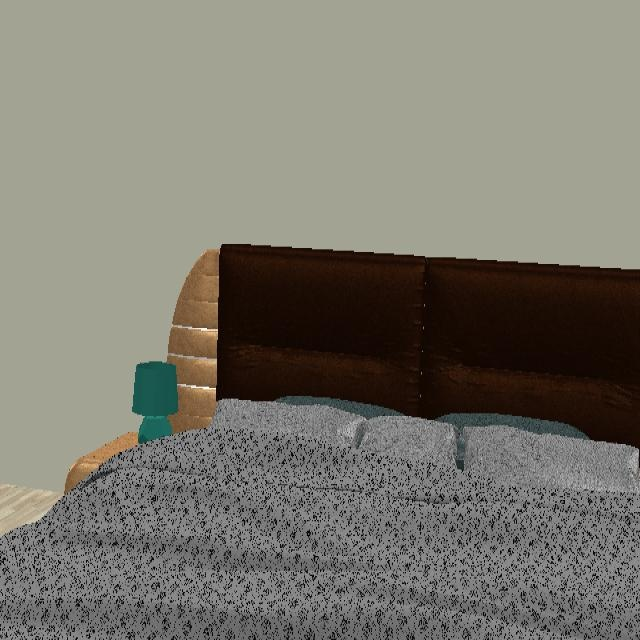bed: (0, 400, 640, 640)
lamp: (131, 361, 180, 445)
nighttable: (63, 433, 140, 495)
pillow: (211, 397, 640, 487)
